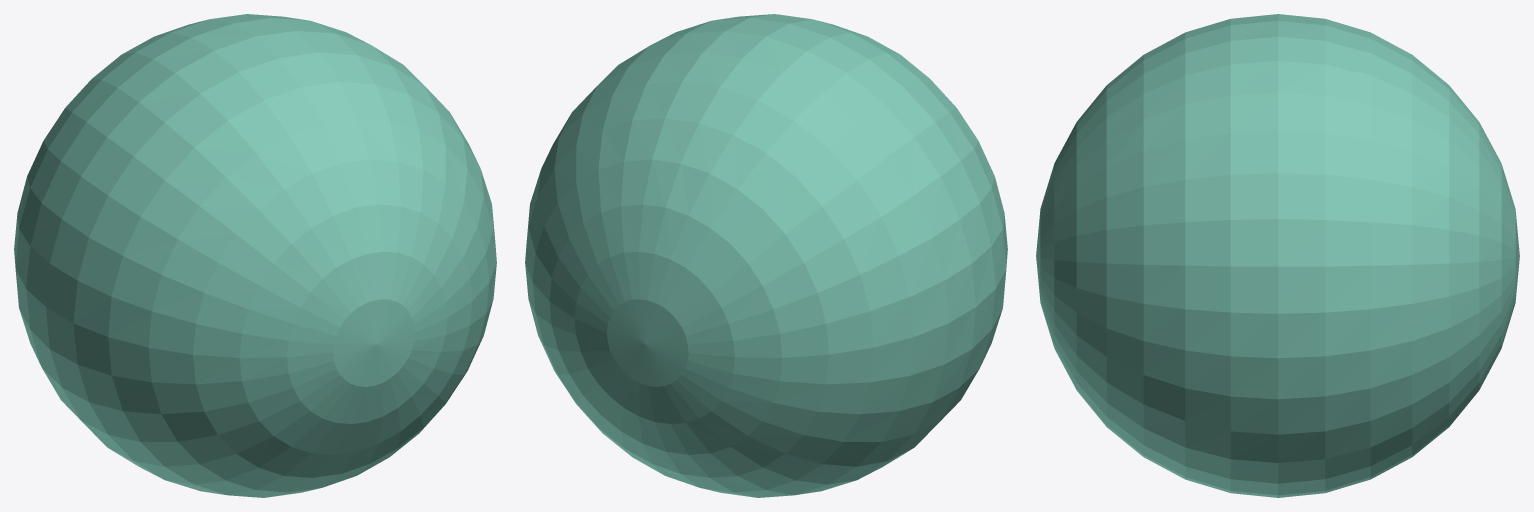
The model's file is blue_small.gltf.
3 views of the same model, side by side, from view 1: azimuth 30°, elevation 25°; view 2: azimuth 150°, elevation 25°; view 3: azimuth 270°, elevation 25° (orthographic).
Parts seen in each view (by area): view 1: MeshBody1 (2); view 2: MeshBody1 (2); view 3: MeshBody1 (2).
Boxes of the visible parts, x1,y1,x2,y2 form: MeshBody1 (2): [14, 14, 496, 497]; MeshBody1 (2): [525, 14, 1007, 497]; MeshBody1 (2): [1036, 14, 1519, 497].
Size of the model in its own units: 2 by 2 by 2.
